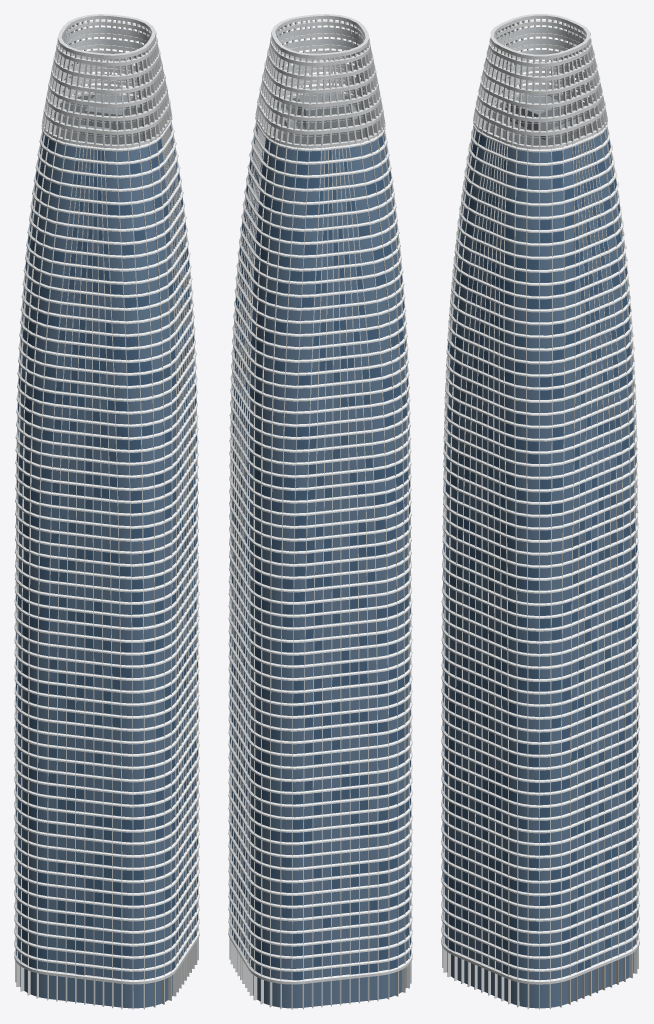
Rendered from salesforce-tower-near.glb.
3 views of the same model, side by side, from view 1: azimuth 30°, elevation 25°; view 2: azimuth 150°, elevation 25°; view 3: azimuth 270°, elevation 25° (orthographic).
Visible parts, largest first — view 1: salesforce-tower-0-fin, salesforce-tower-0-glass, salesforce-tower-0-glow, salesforce-tower-0-light, salesforce-tower-0-roof, salesforce-tower-0-metal; view 2: salesforce-tower-0-fin, salesforce-tower-0-glass, salesforce-tower-0-glow, salesforce-tower-0-light, salesforce-tower-0-metal, salesforce-tower-0-roof; view 3: salesforce-tower-0-fin, salesforce-tower-0-glass, salesforce-tower-0-glow, salesforce-tower-0-light, salesforce-tower-0-roof, salesforce-tower-0-metal.
Part boxes in pixels (bbox=[...]): salesforce-tower-0-fin: bbox=[14, 14, 199, 1009]; salesforce-tower-0-glass: bbox=[16, 125, 197, 1008]; salesforce-tower-0-glow: bbox=[16, 138, 197, 975]; salesforce-tower-0-light: bbox=[52, 27, 152, 136]; salesforce-tower-0-roof: bbox=[51, 95, 156, 144]; salesforce-tower-0-metal: bbox=[79, 93, 144, 137]; salesforce-tower-0-fin: bbox=[228, 14, 412, 1009]; salesforce-tower-0-glass: bbox=[230, 125, 410, 1008]; salesforce-tower-0-glow: bbox=[230, 127, 410, 980]; salesforce-tower-0-light: bbox=[270, 27, 377, 136]; salesforce-tower-0-metal: bbox=[280, 91, 361, 136]; salesforce-tower-0-roof: bbox=[270, 96, 375, 144]; salesforce-tower-0-fin: bbox=[441, 14, 639, 1009]; salesforce-tower-0-glass: bbox=[443, 129, 637, 1008]; salesforce-tower-0-glow: bbox=[442, 134, 638, 974]; salesforce-tower-0-light: bbox=[484, 27, 597, 137]; salesforce-tower-0-roof: bbox=[481, 94, 598, 145]; salesforce-tower-0-metal: bbox=[505, 93, 585, 140].
Bounding box in the file's own units: 62.96 × 326 × 62.96.
